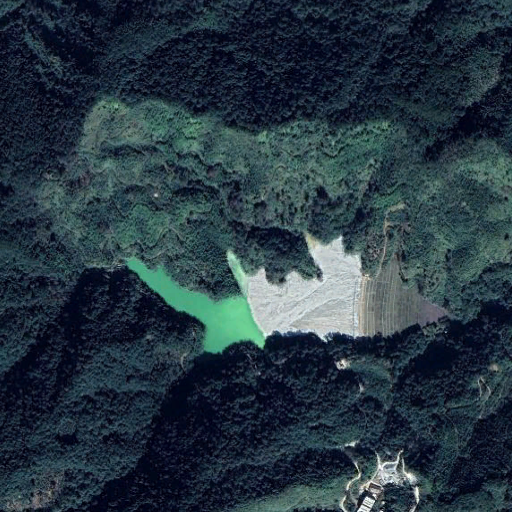tp: (123, 233, 448, 356)
